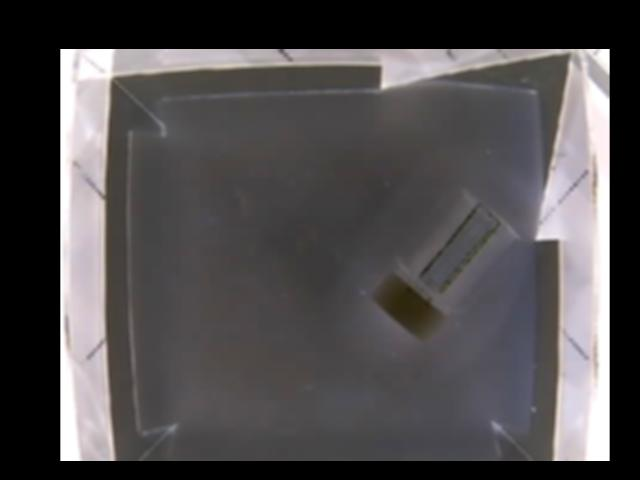Bottle: (368, 188, 521, 345)
